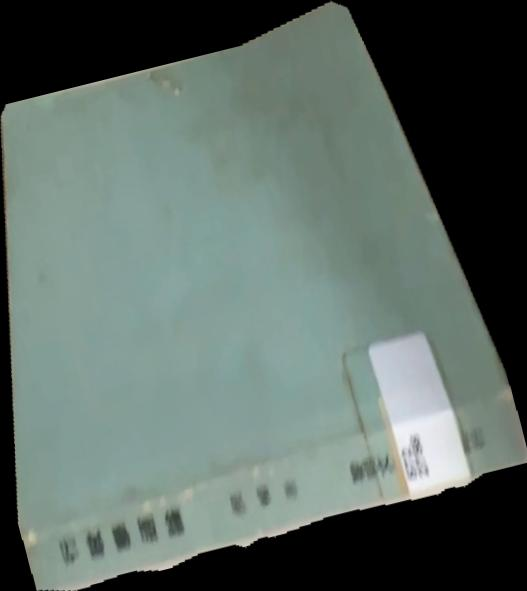flat: (1, 1, 527, 591)
